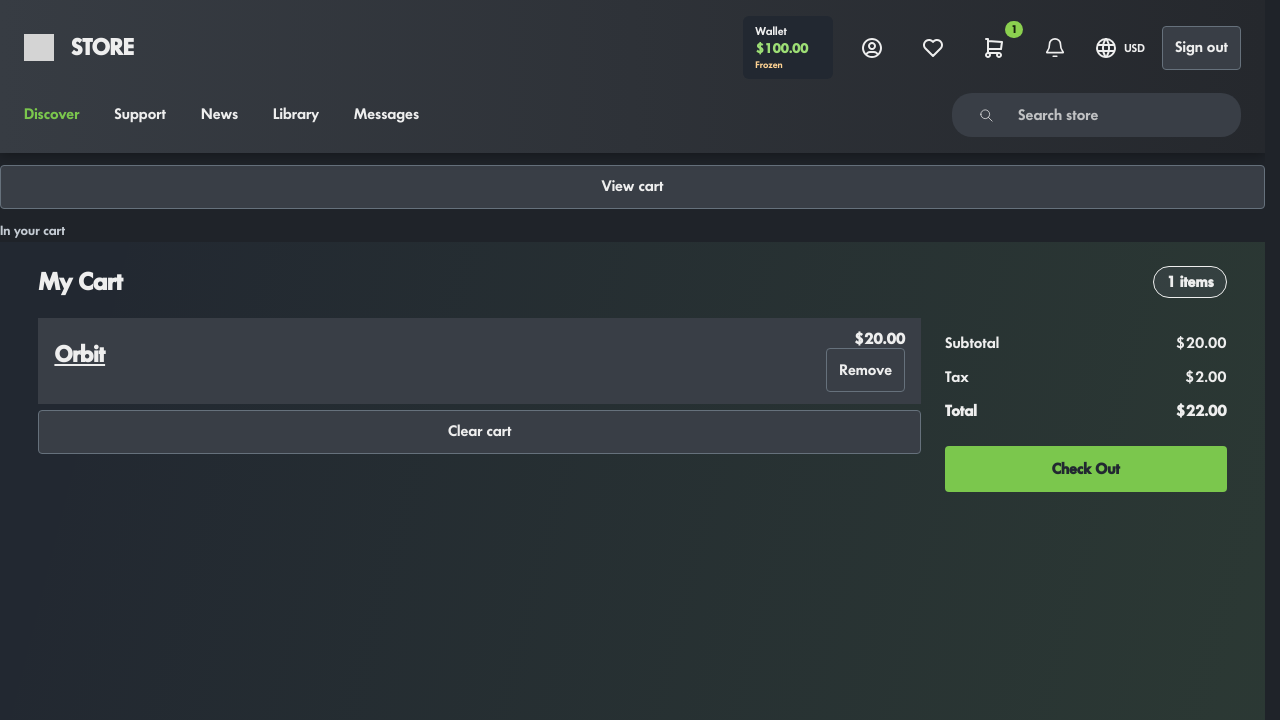
blocks unsafe wallet payments and still allows choosing a bank card ({"balance":"100.00","currency":"USD","is_frozen":true})
This screenshot has width=1280, height=720.
Later steps or results of the test are not shown.
Click the button "Check Out".
click(1086, 469)  # box [945, 446, 1227, 492]
(page scrolled)
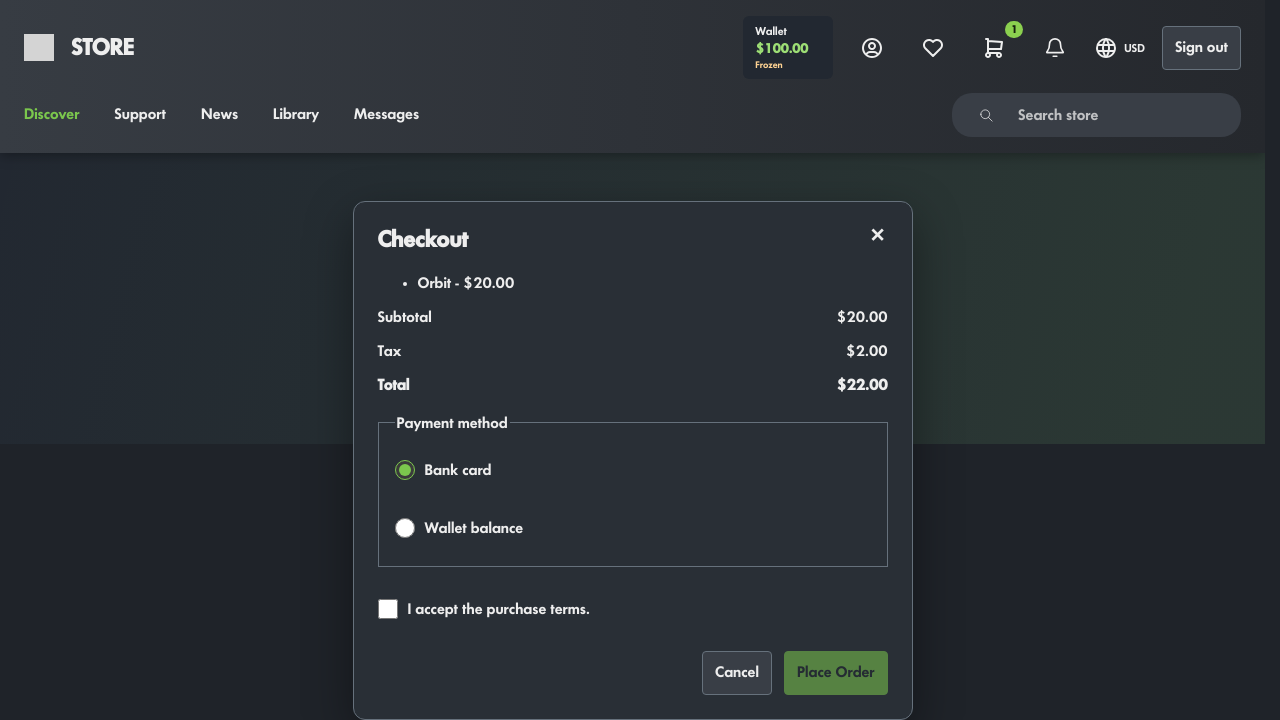
Click the radio button labelled "Wallet balance".
click(404, 528)  # box [394, 518, 414, 538]
(page scrolled)
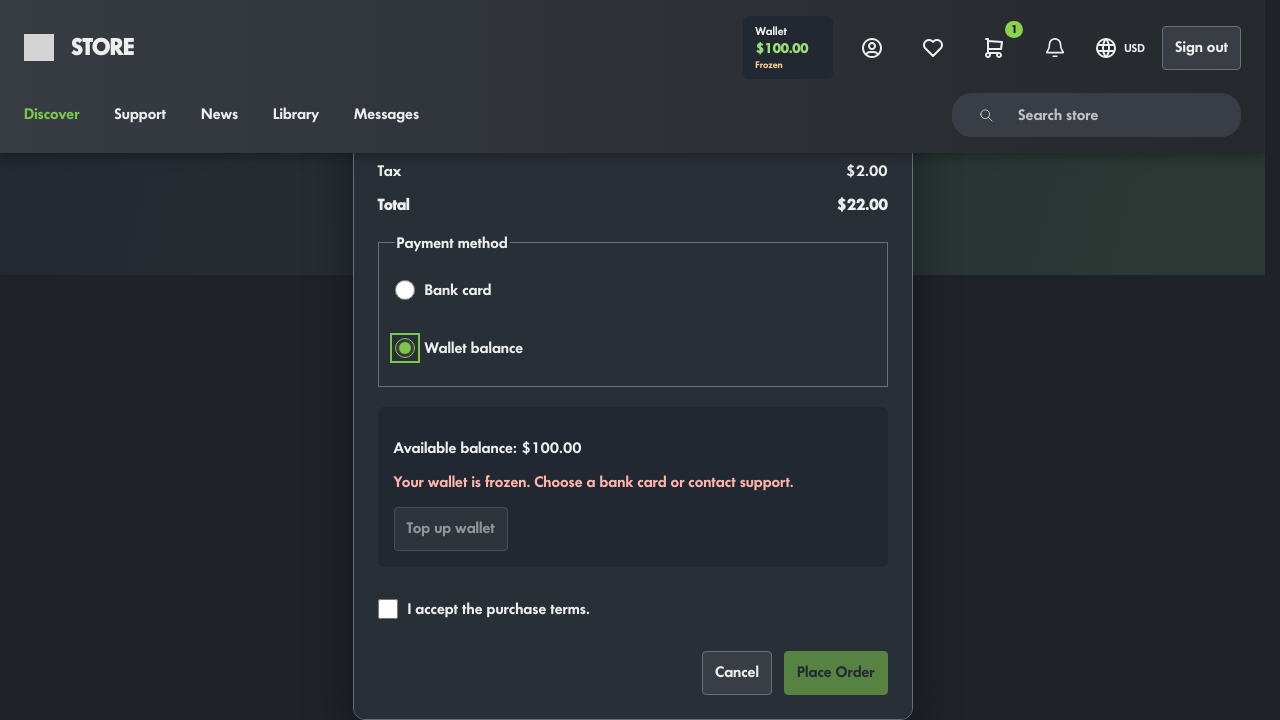
Click the checkbox.
click(388, 609)  # box [378, 599, 398, 619]
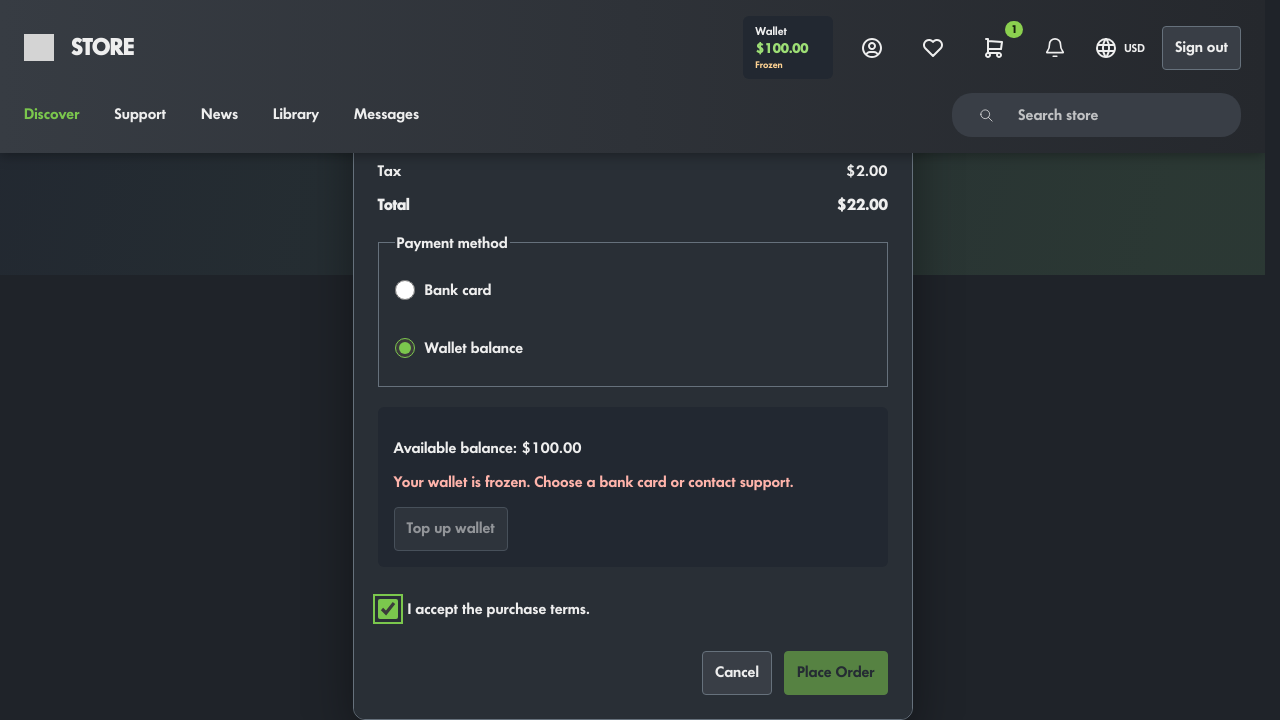
Result: the text "Your wallet is frozen. Choose a bank card or contact support." is shown at [394, 474, 794, 490]
Result: the button "Place Order" is disabled
Click the button "Place Order".
click(836, 673)  # box [784, 651, 888, 695]
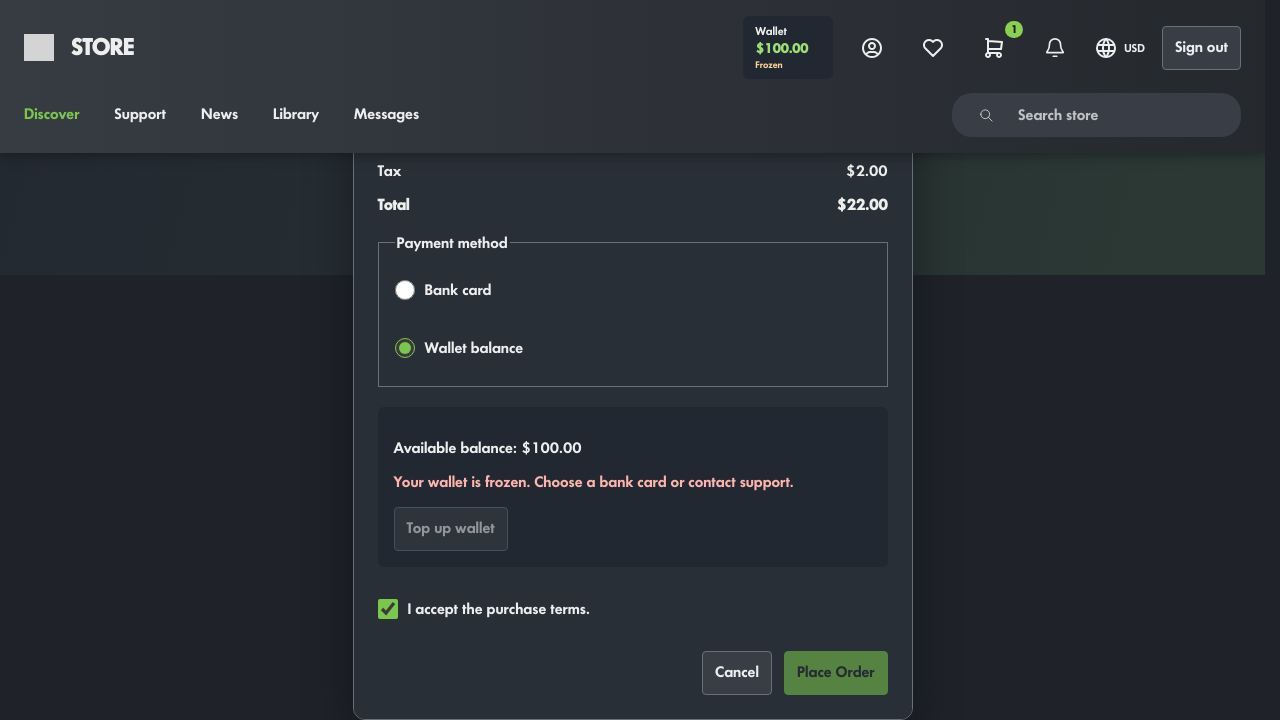
Click the radio button labelled "Bank card".
click(404, 290)  # box [394, 280, 414, 300]
(page scrolled)
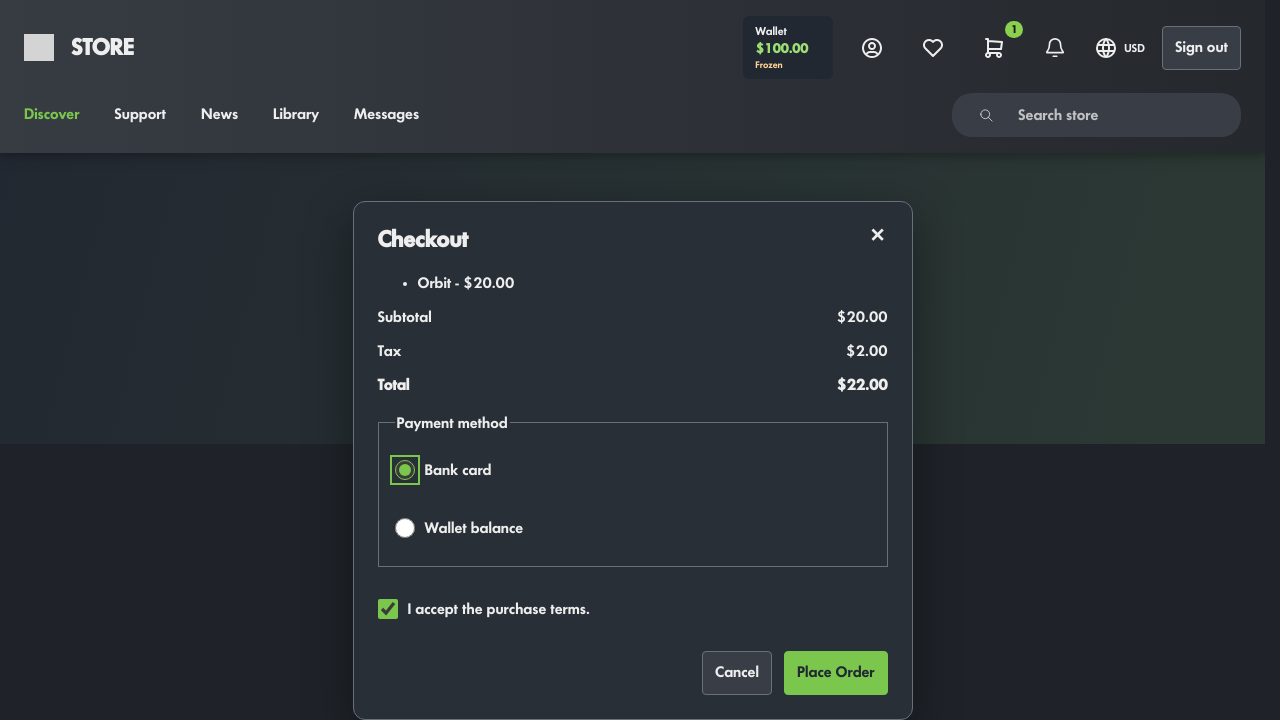
Result: the button "Place Order" is enabled at [784, 651, 888, 695]
